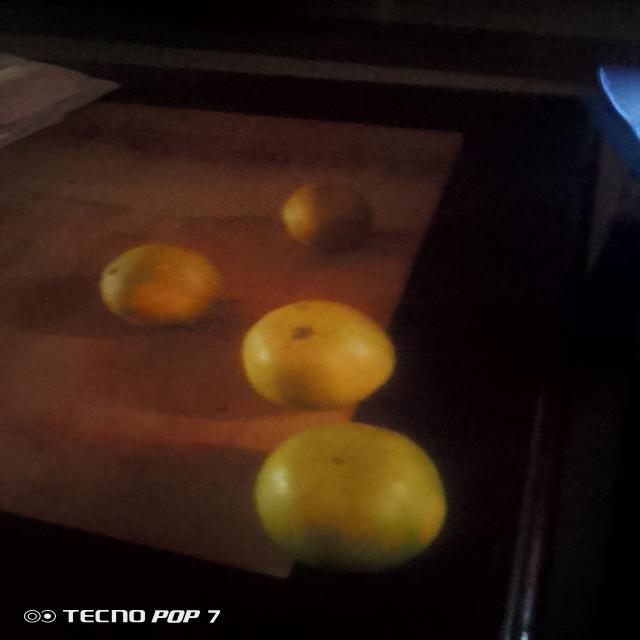Ripe orange: (246, 429, 444, 568), (243, 290, 403, 412), (99, 245, 220, 339), (280, 178, 366, 257)
